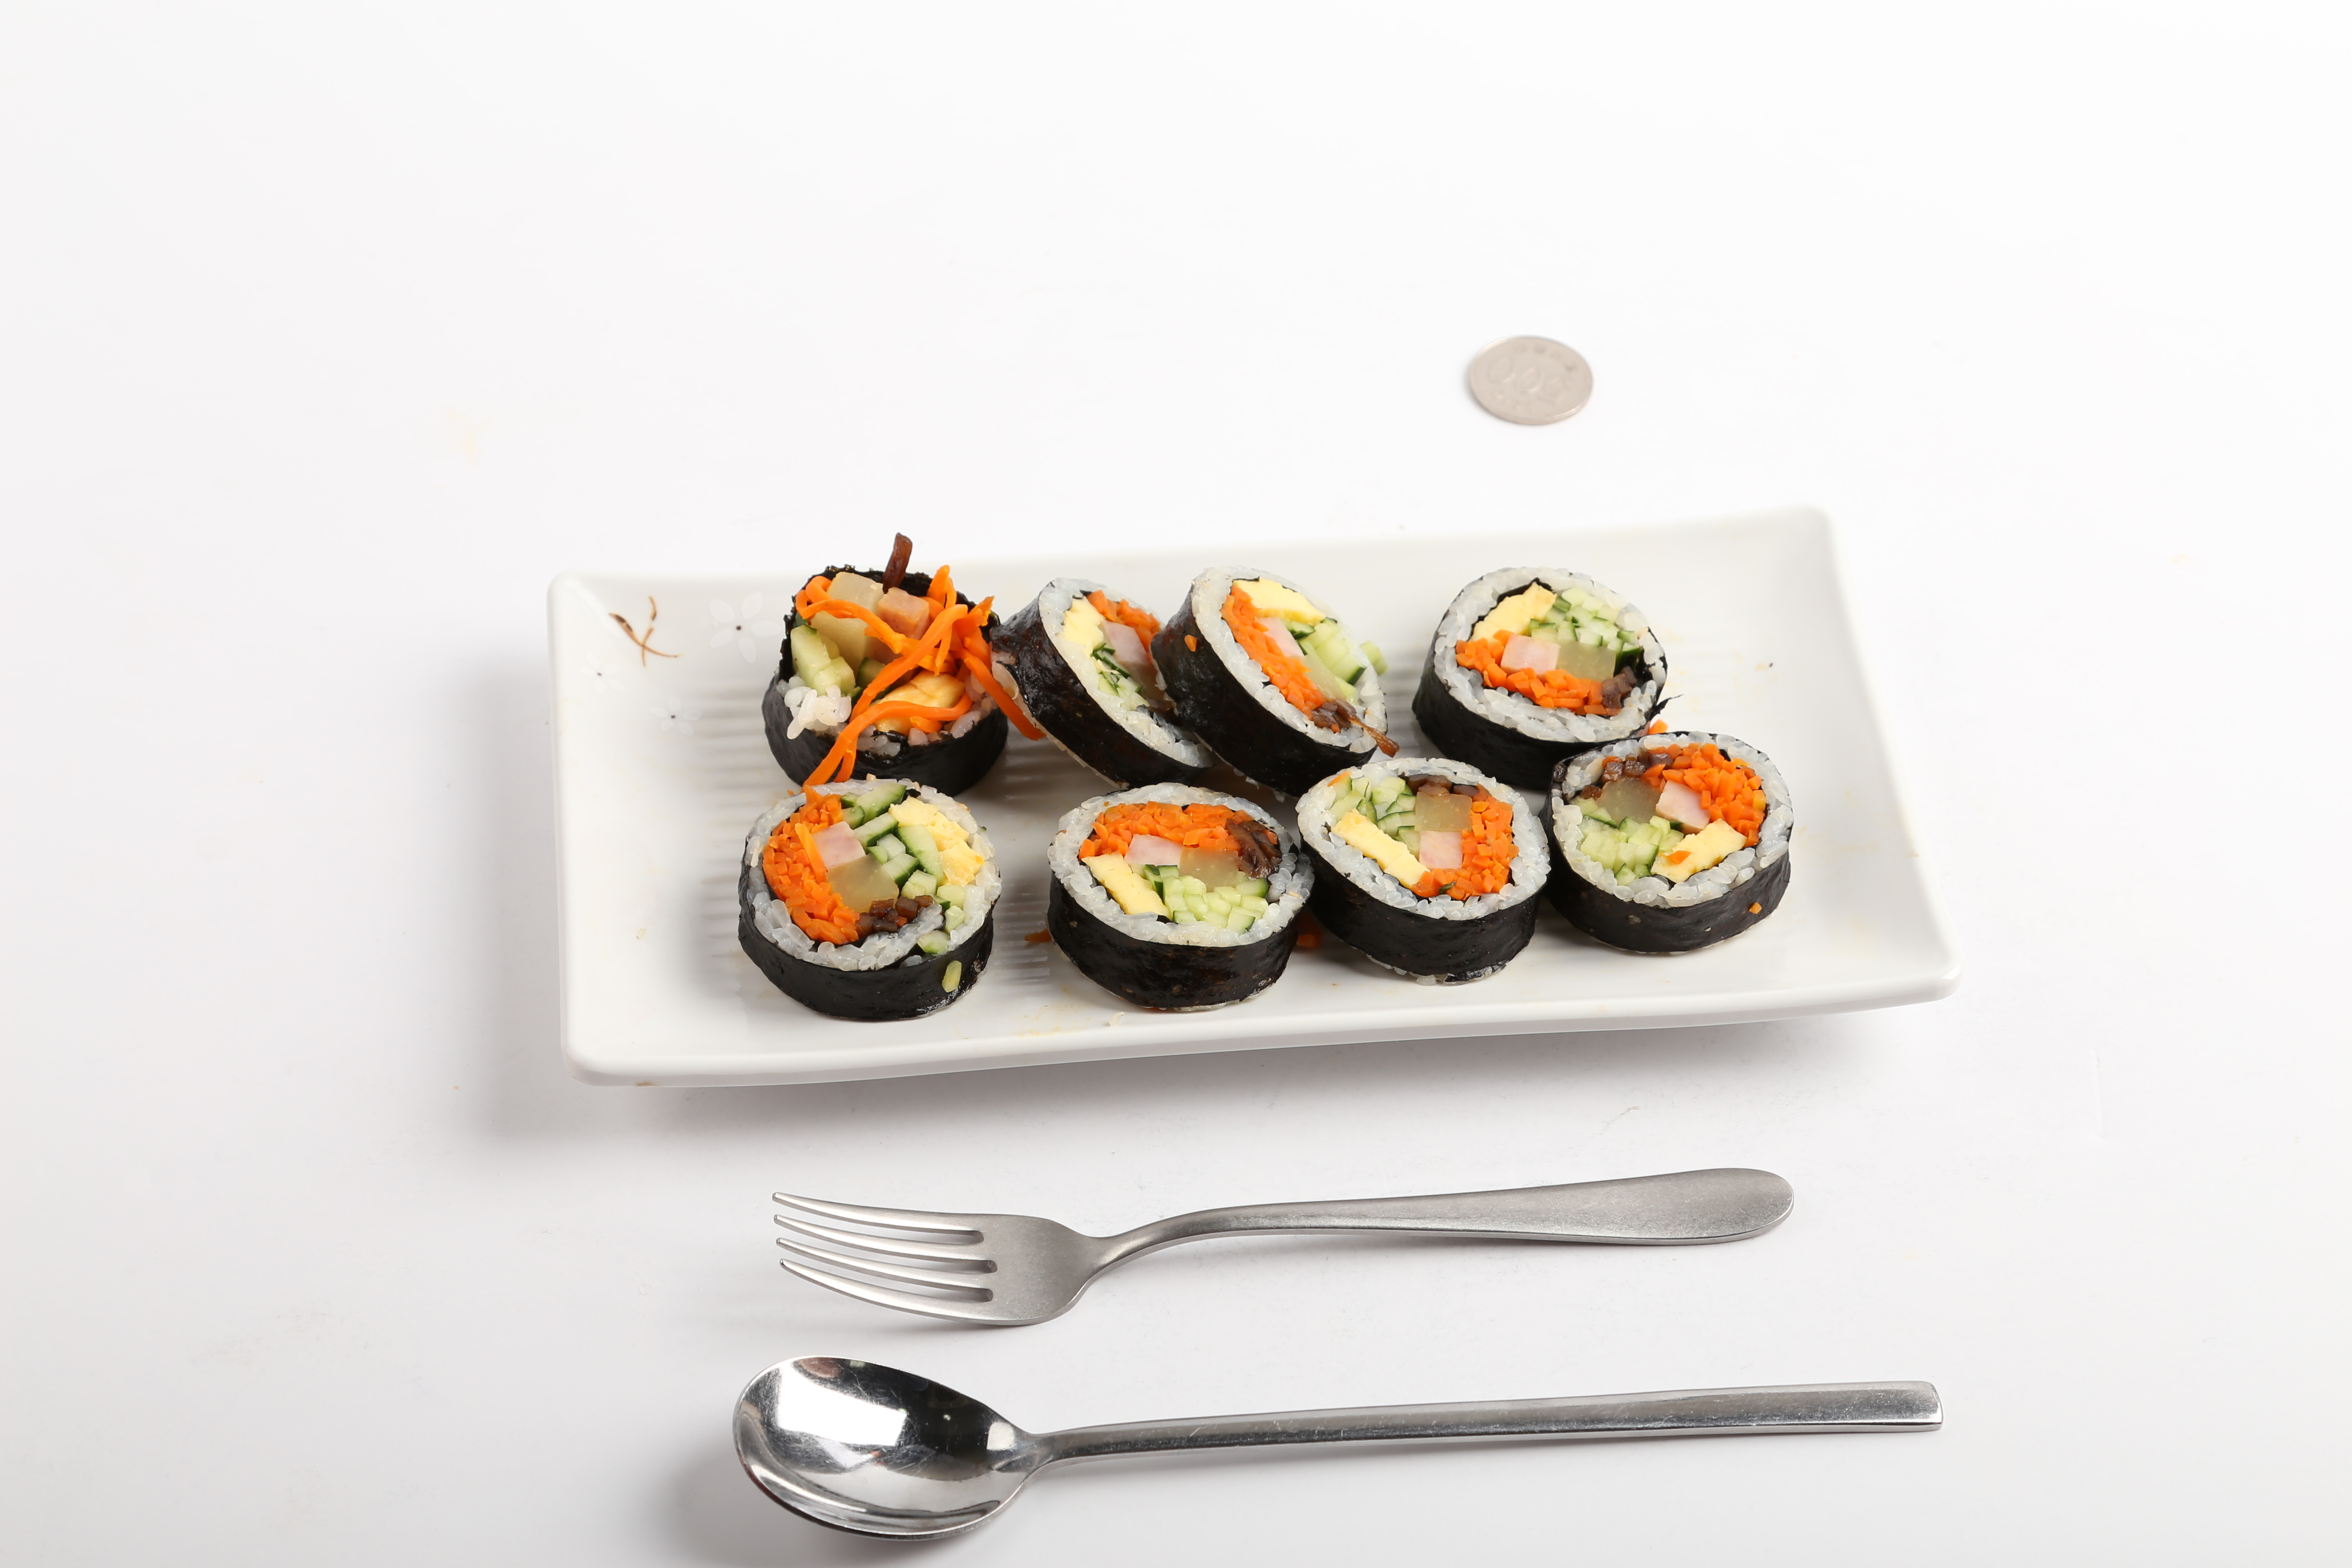dish: (544, 497, 1958, 1099)
ref_coin: (1465, 322, 1598, 436)
ref_fork: (763, 1181, 1171, 1335)
ref_spoon: (724, 1346, 1104, 1543)
김밥: (740, 539, 1801, 1027)
